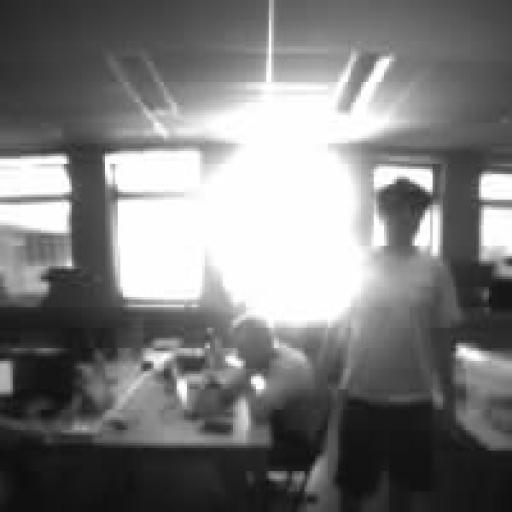human: (336, 180, 460, 511), (210, 315, 318, 509)
